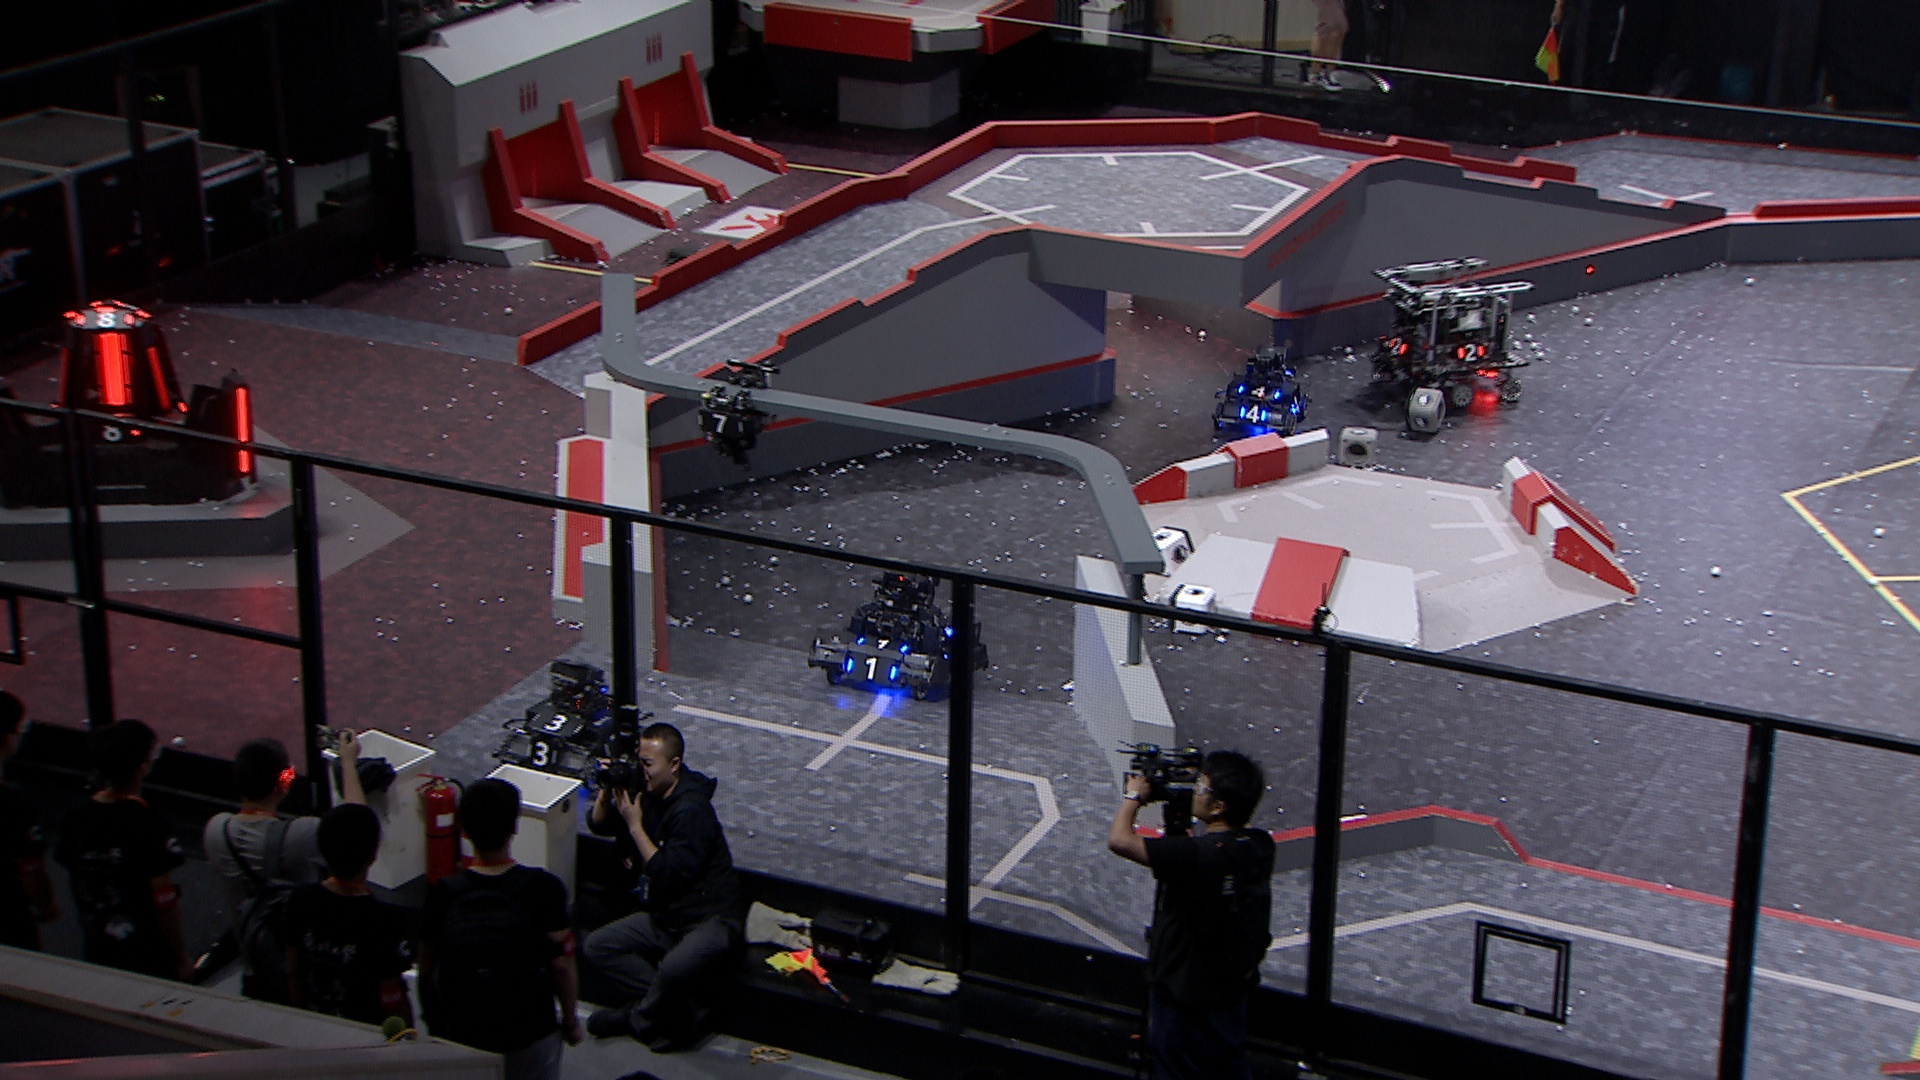armor: (92, 332, 131, 405), (145, 344, 174, 409), (233, 386, 255, 473), (527, 708, 585, 736), (844, 655, 902, 683), (74, 310, 136, 332), (852, 633, 909, 655), (695, 411, 749, 434), (524, 738, 560, 770), (98, 419, 141, 440), (54, 347, 69, 405), (1236, 384, 1284, 400), (1455, 342, 1486, 363), (1238, 404, 1269, 425), (1386, 334, 1408, 356), (1287, 392, 1302, 415)
car: (1366, 256, 1536, 411), (811, 556, 992, 702), (495, 661, 651, 794), (1207, 345, 1311, 433)
watcher: (690, 357, 775, 473)
